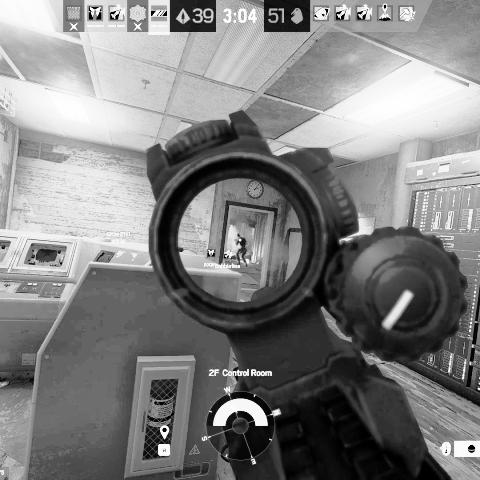Character: (235, 233, 249, 268)
Friend_label: (214, 249, 241, 269), (203, 249, 219, 267)
Head: (237, 232, 241, 237)
